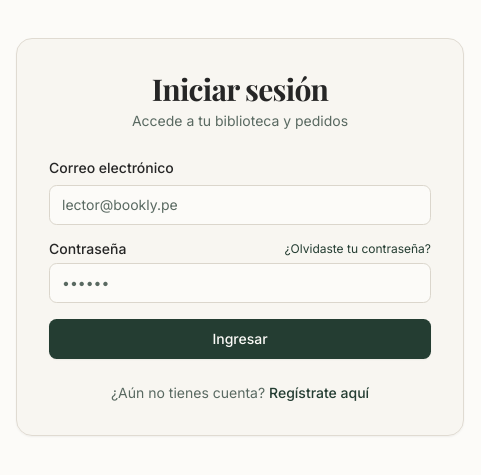
Test: BOOKLY Frontend Suite › valida formulario de LoginPage con Zod antes de enviar
Step 1. Click the button "Ingresar" → point(240, 338), box [49,318,431,358]
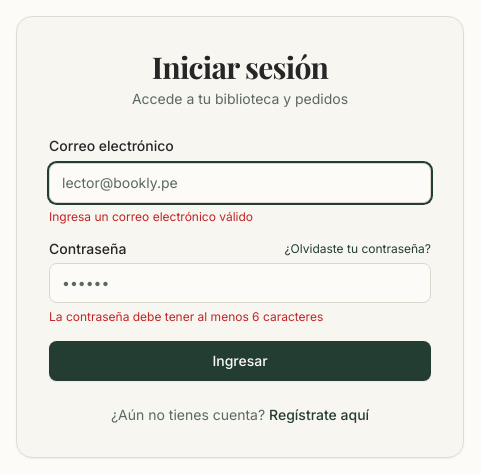
Check: the text "Ingresa un correo electrónico válido" is shown, box [49,208,253,224]
Check: the text "La contraseña debe tener al menos 6 caracteres" is shown, box [49,308,323,324]
